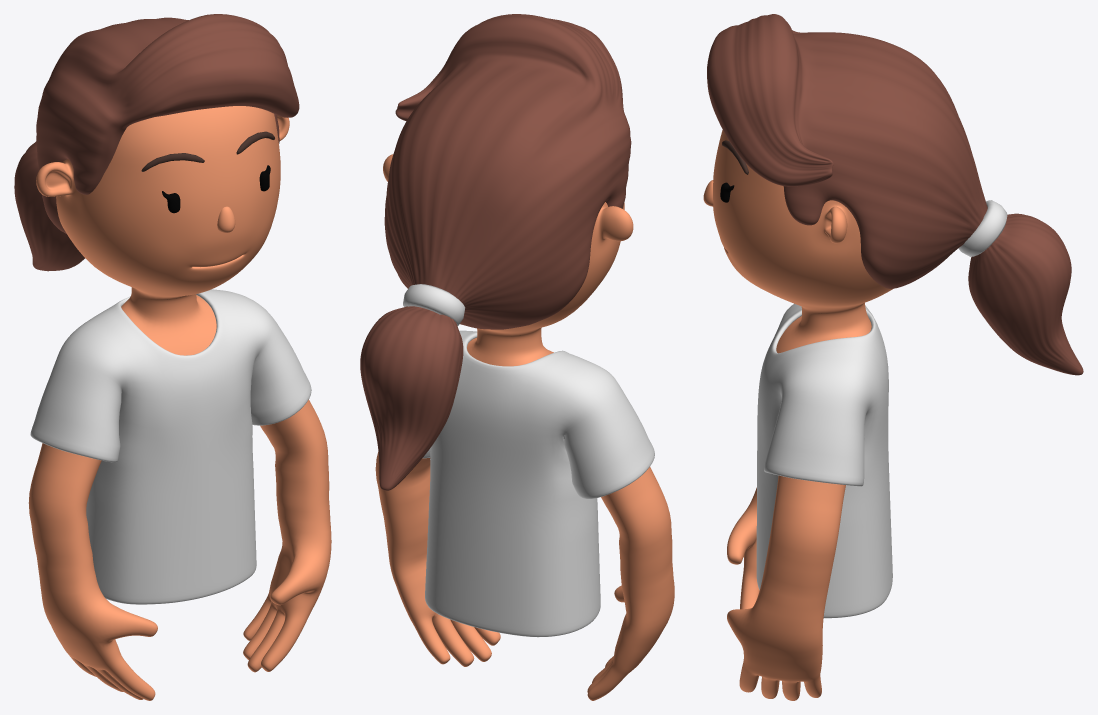
The picture shows the model from 3 angles, left to right: view 1: azimuth 30°, elevation 25°; view 2: azimuth 150°, elevation 25°; view 3: azimuth 270°, elevation 25°; orthographic projection.
Visible parts, largest first — view 1: T-shirt, head, Hair_9, body, Eyebrow.002, eye; view 2: Hair_9, T-shirt, body, head, hair band; view 3: Hair_9, T-shirt, body, head, hair band.
Part boxes in pixels (<box>): T-shirt: <box>30,289,311,604</box>; head: <box>36,106,289,355</box>; Hair_9: <box>14,14,299,271</box>; body: <box>28,399,331,700</box>; Eyebrow.002: <box>141,131,274,171</box>; eye: <box>162,165,270,213</box>; Hair_9: <box>360,14,631,490</box>; T-shirt: <box>422,330,654,637</box>; body: <box>375,451,674,700</box>; head: <box>383,154,633,366</box>; hair band: <box>403,284,465,325</box>; Hair_9: <box>707,14,1083,375</box>; T-shirt: <box>756,303,892,618</box>; body: <box>727,475,845,700</box>; head: <box>713,130,893,353</box>; hair band: <box>958,200,1007,256</box>.
Size of the model in its own units: 6.15 by 13.51 by 7.14.
